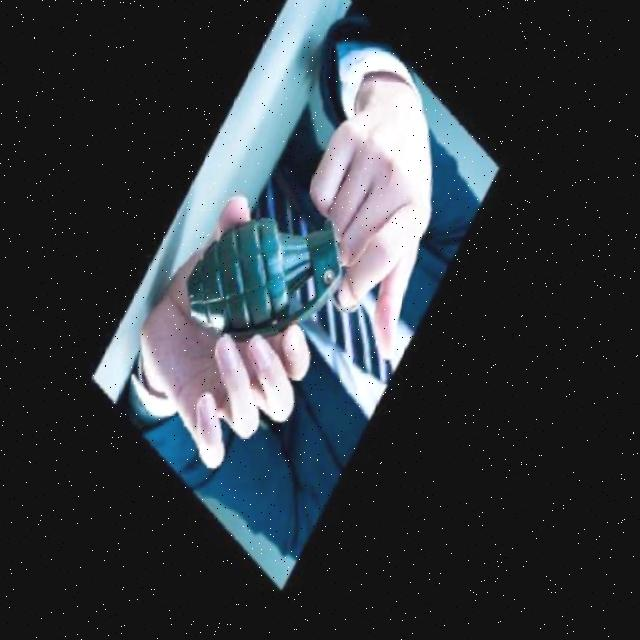grenade: (157, 177, 382, 369)
